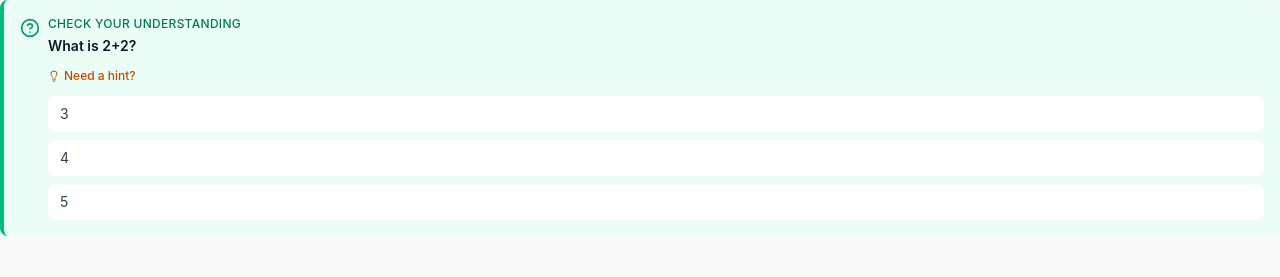
ConceptCheck — multiple-choice mode › disables option buttons after selection and resets on Try Again
The width and height of the screenshot is (1280, 277).
Click the button "4": point(65, 158) [48,140,1264,176]
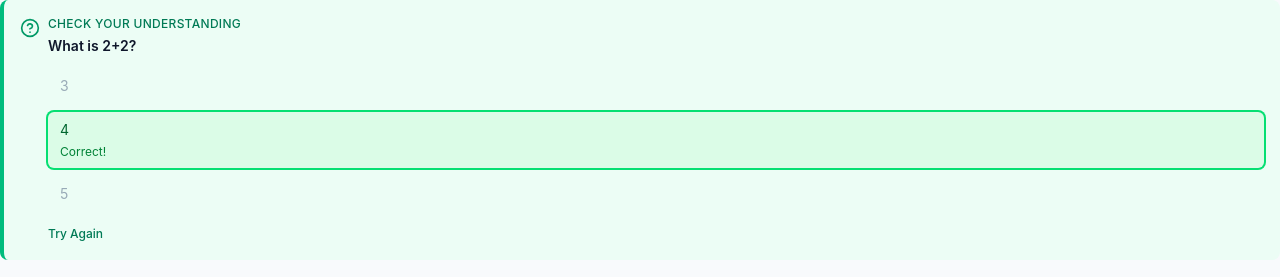
Now the button "3" is disabled, box [48,68,1264,104]
Click the button "Try Again": point(76, 234) [48,226,103,242]
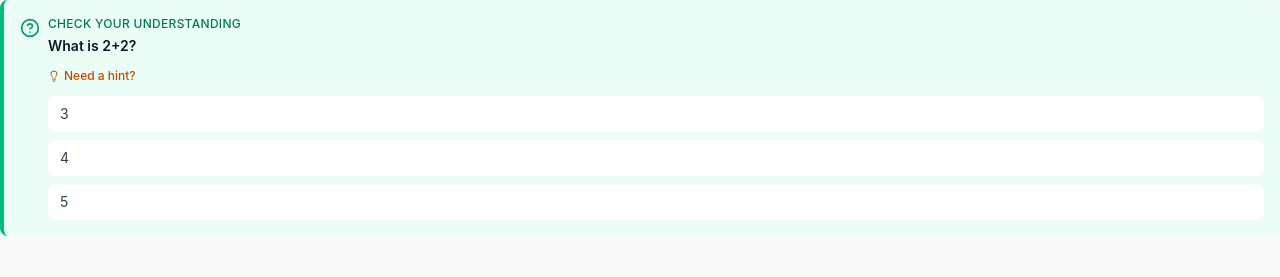
Now the button "3" is enabled, box [48,96,1264,132]
